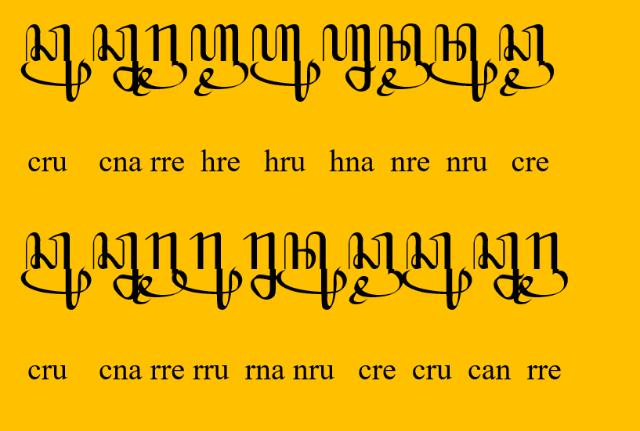cn: (92, 23, 144, 92), (92, 232, 144, 300), (472, 232, 524, 300)
cre: (498, 23, 554, 96), (348, 232, 402, 306)
cru: (20, 232, 91, 310), (21, 24, 91, 102), (402, 232, 472, 310)
hn: (322, 23, 376, 92)
hre: (191, 23, 249, 97)
hru: (250, 24, 322, 102)
nre: (376, 23, 430, 96)
nru: (277, 231, 347, 311), (428, 24, 498, 102)
rn: (242, 232, 280, 300)
rre: (132, 232, 188, 304), (512, 232, 568, 304), (133, 23, 187, 96)
rru: (172, 231, 242, 311)
